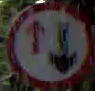Two way: (8, 4, 92, 90)
